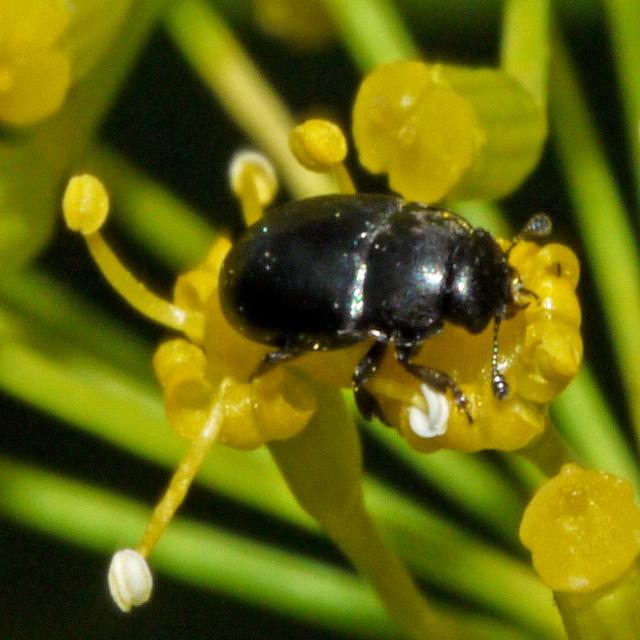pollen_beetle: (208, 171, 560, 430)
